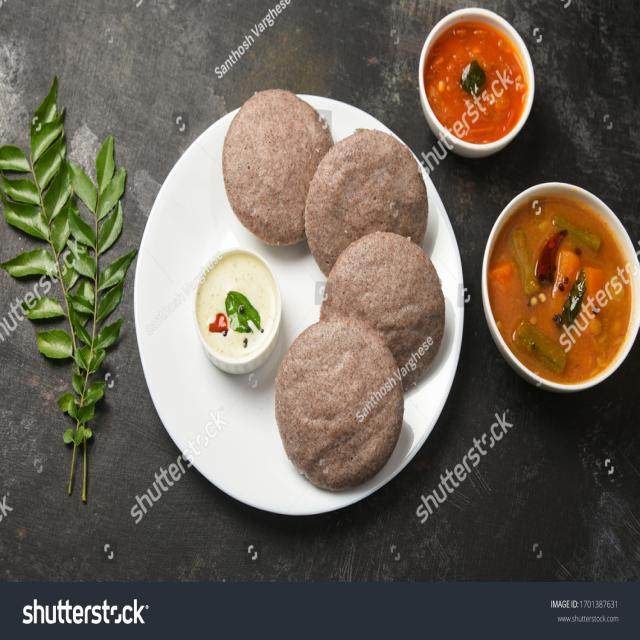IDLI: (275, 129, 445, 488), (222, 89, 334, 245)
